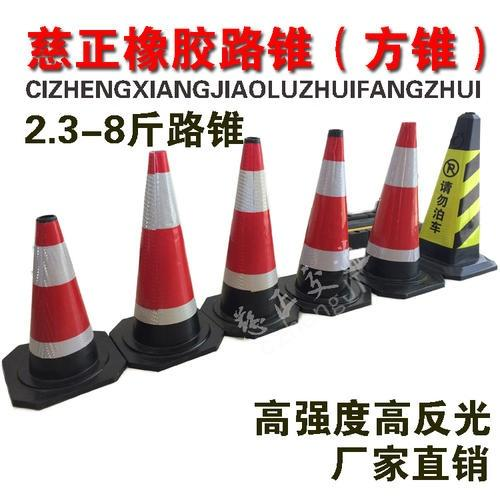cone_barrel: (120, 149, 207, 353), (211, 135, 290, 337), (18, 213, 103, 390), (290, 127, 359, 316), (360, 119, 428, 293), (418, 111, 486, 273)
